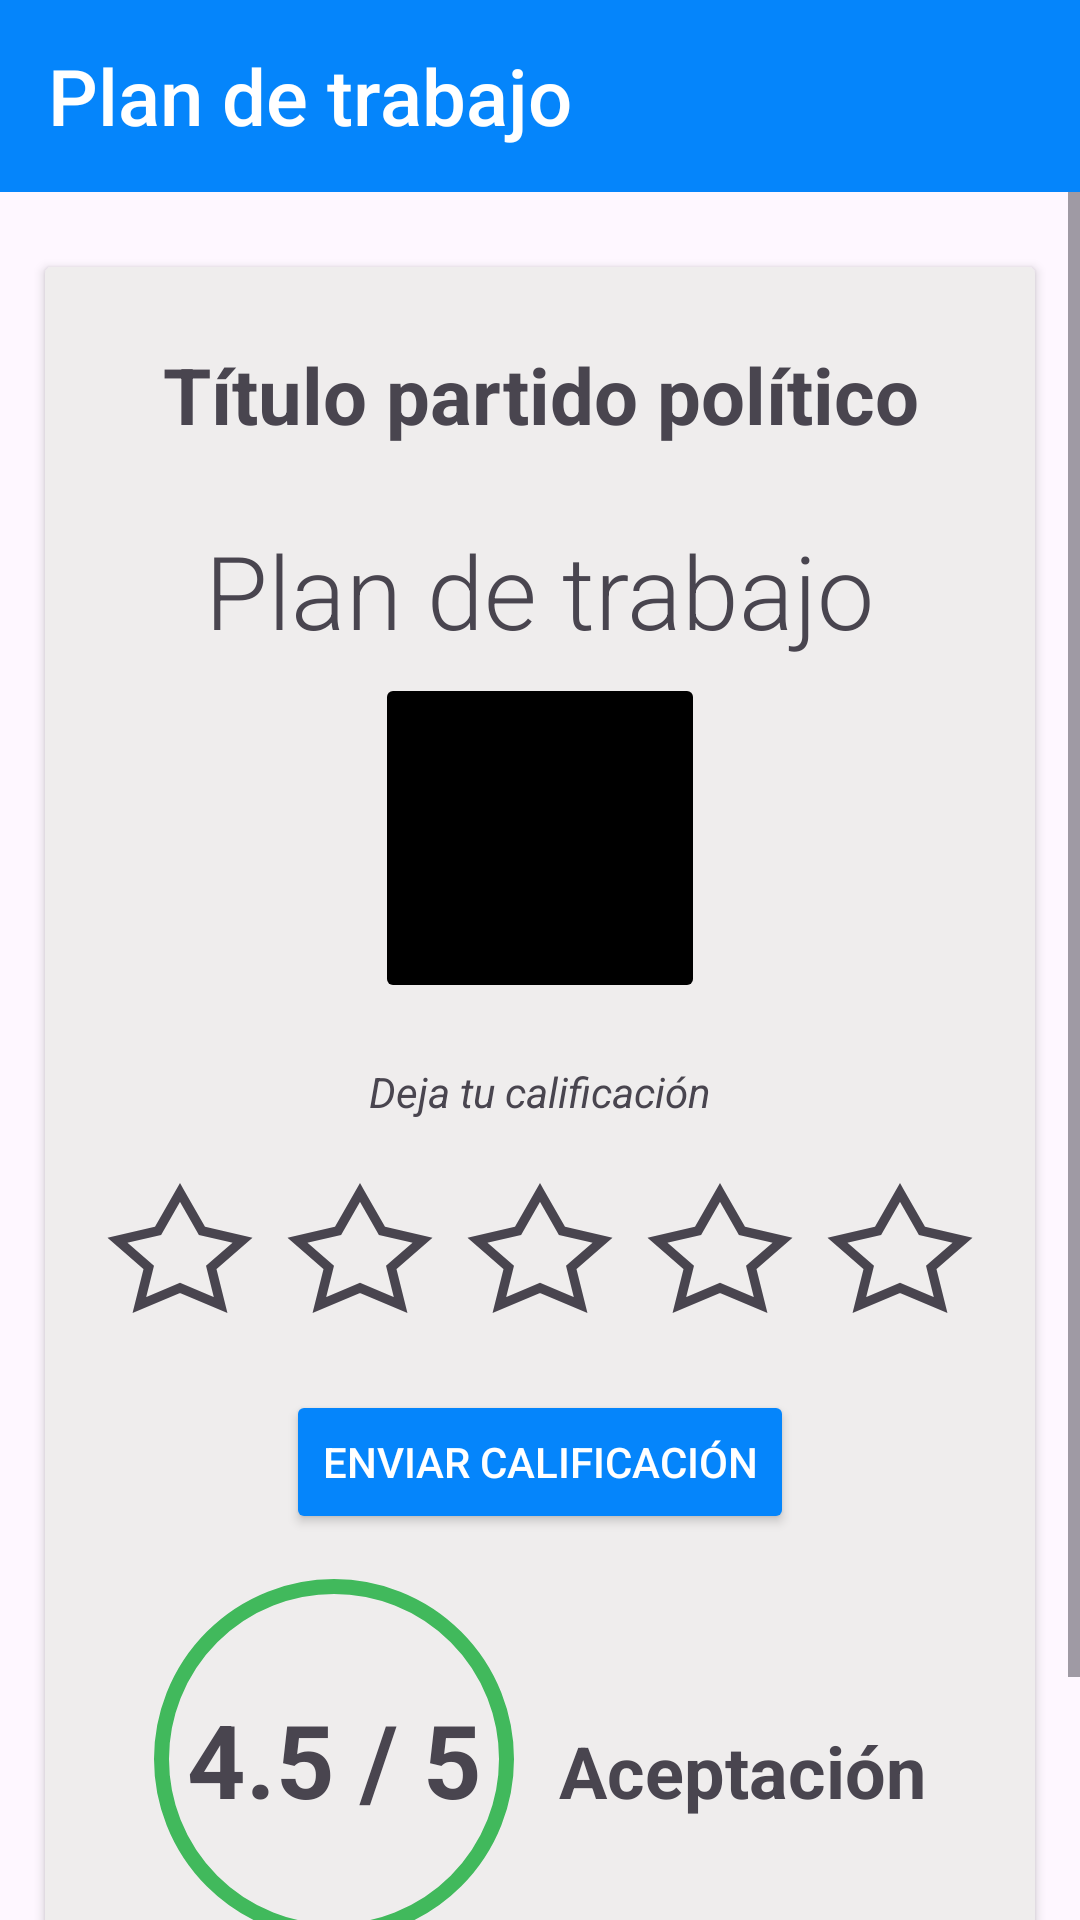

Where icons sit on this 1080 × 1920 app screen, as BBox(x1, y1, x2, y2):
estrella: BBox(108, 1183, 252, 1313), BBox(288, 1183, 432, 1313), BBox(468, 1183, 612, 1313), BBox(648, 1183, 792, 1313), BBox(828, 1183, 972, 1313)
